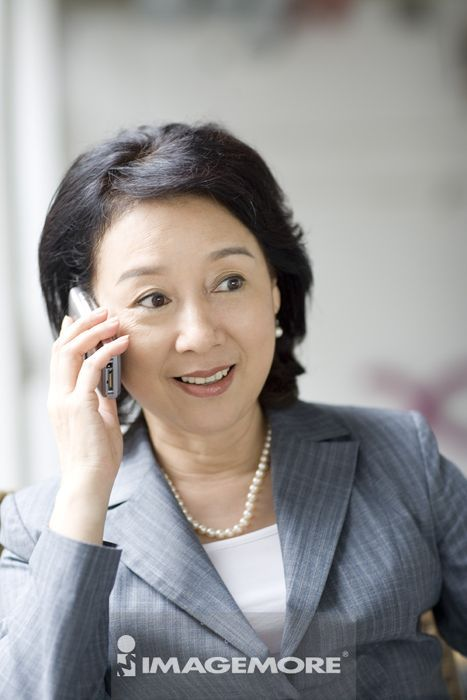phone: (69, 289, 124, 402)
talk: (51, 234, 267, 486)
